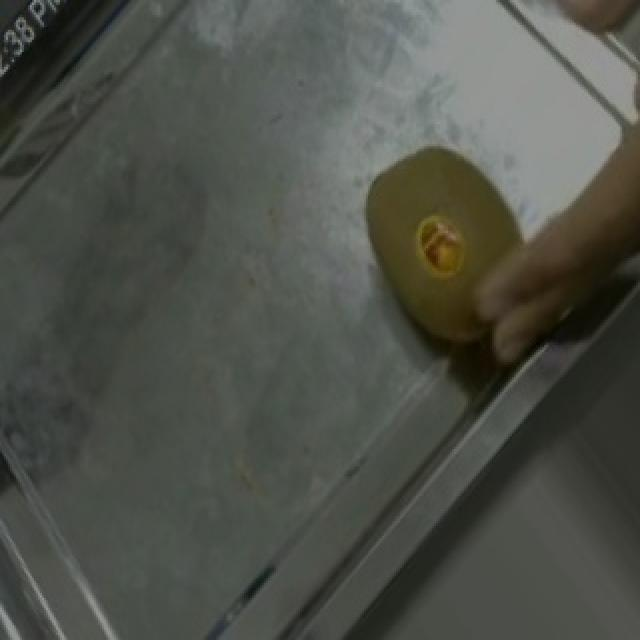Fruit: (326, 114, 640, 404)
